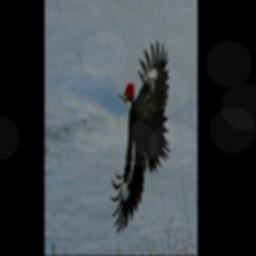Woodpecker: (109, 38, 170, 232)
